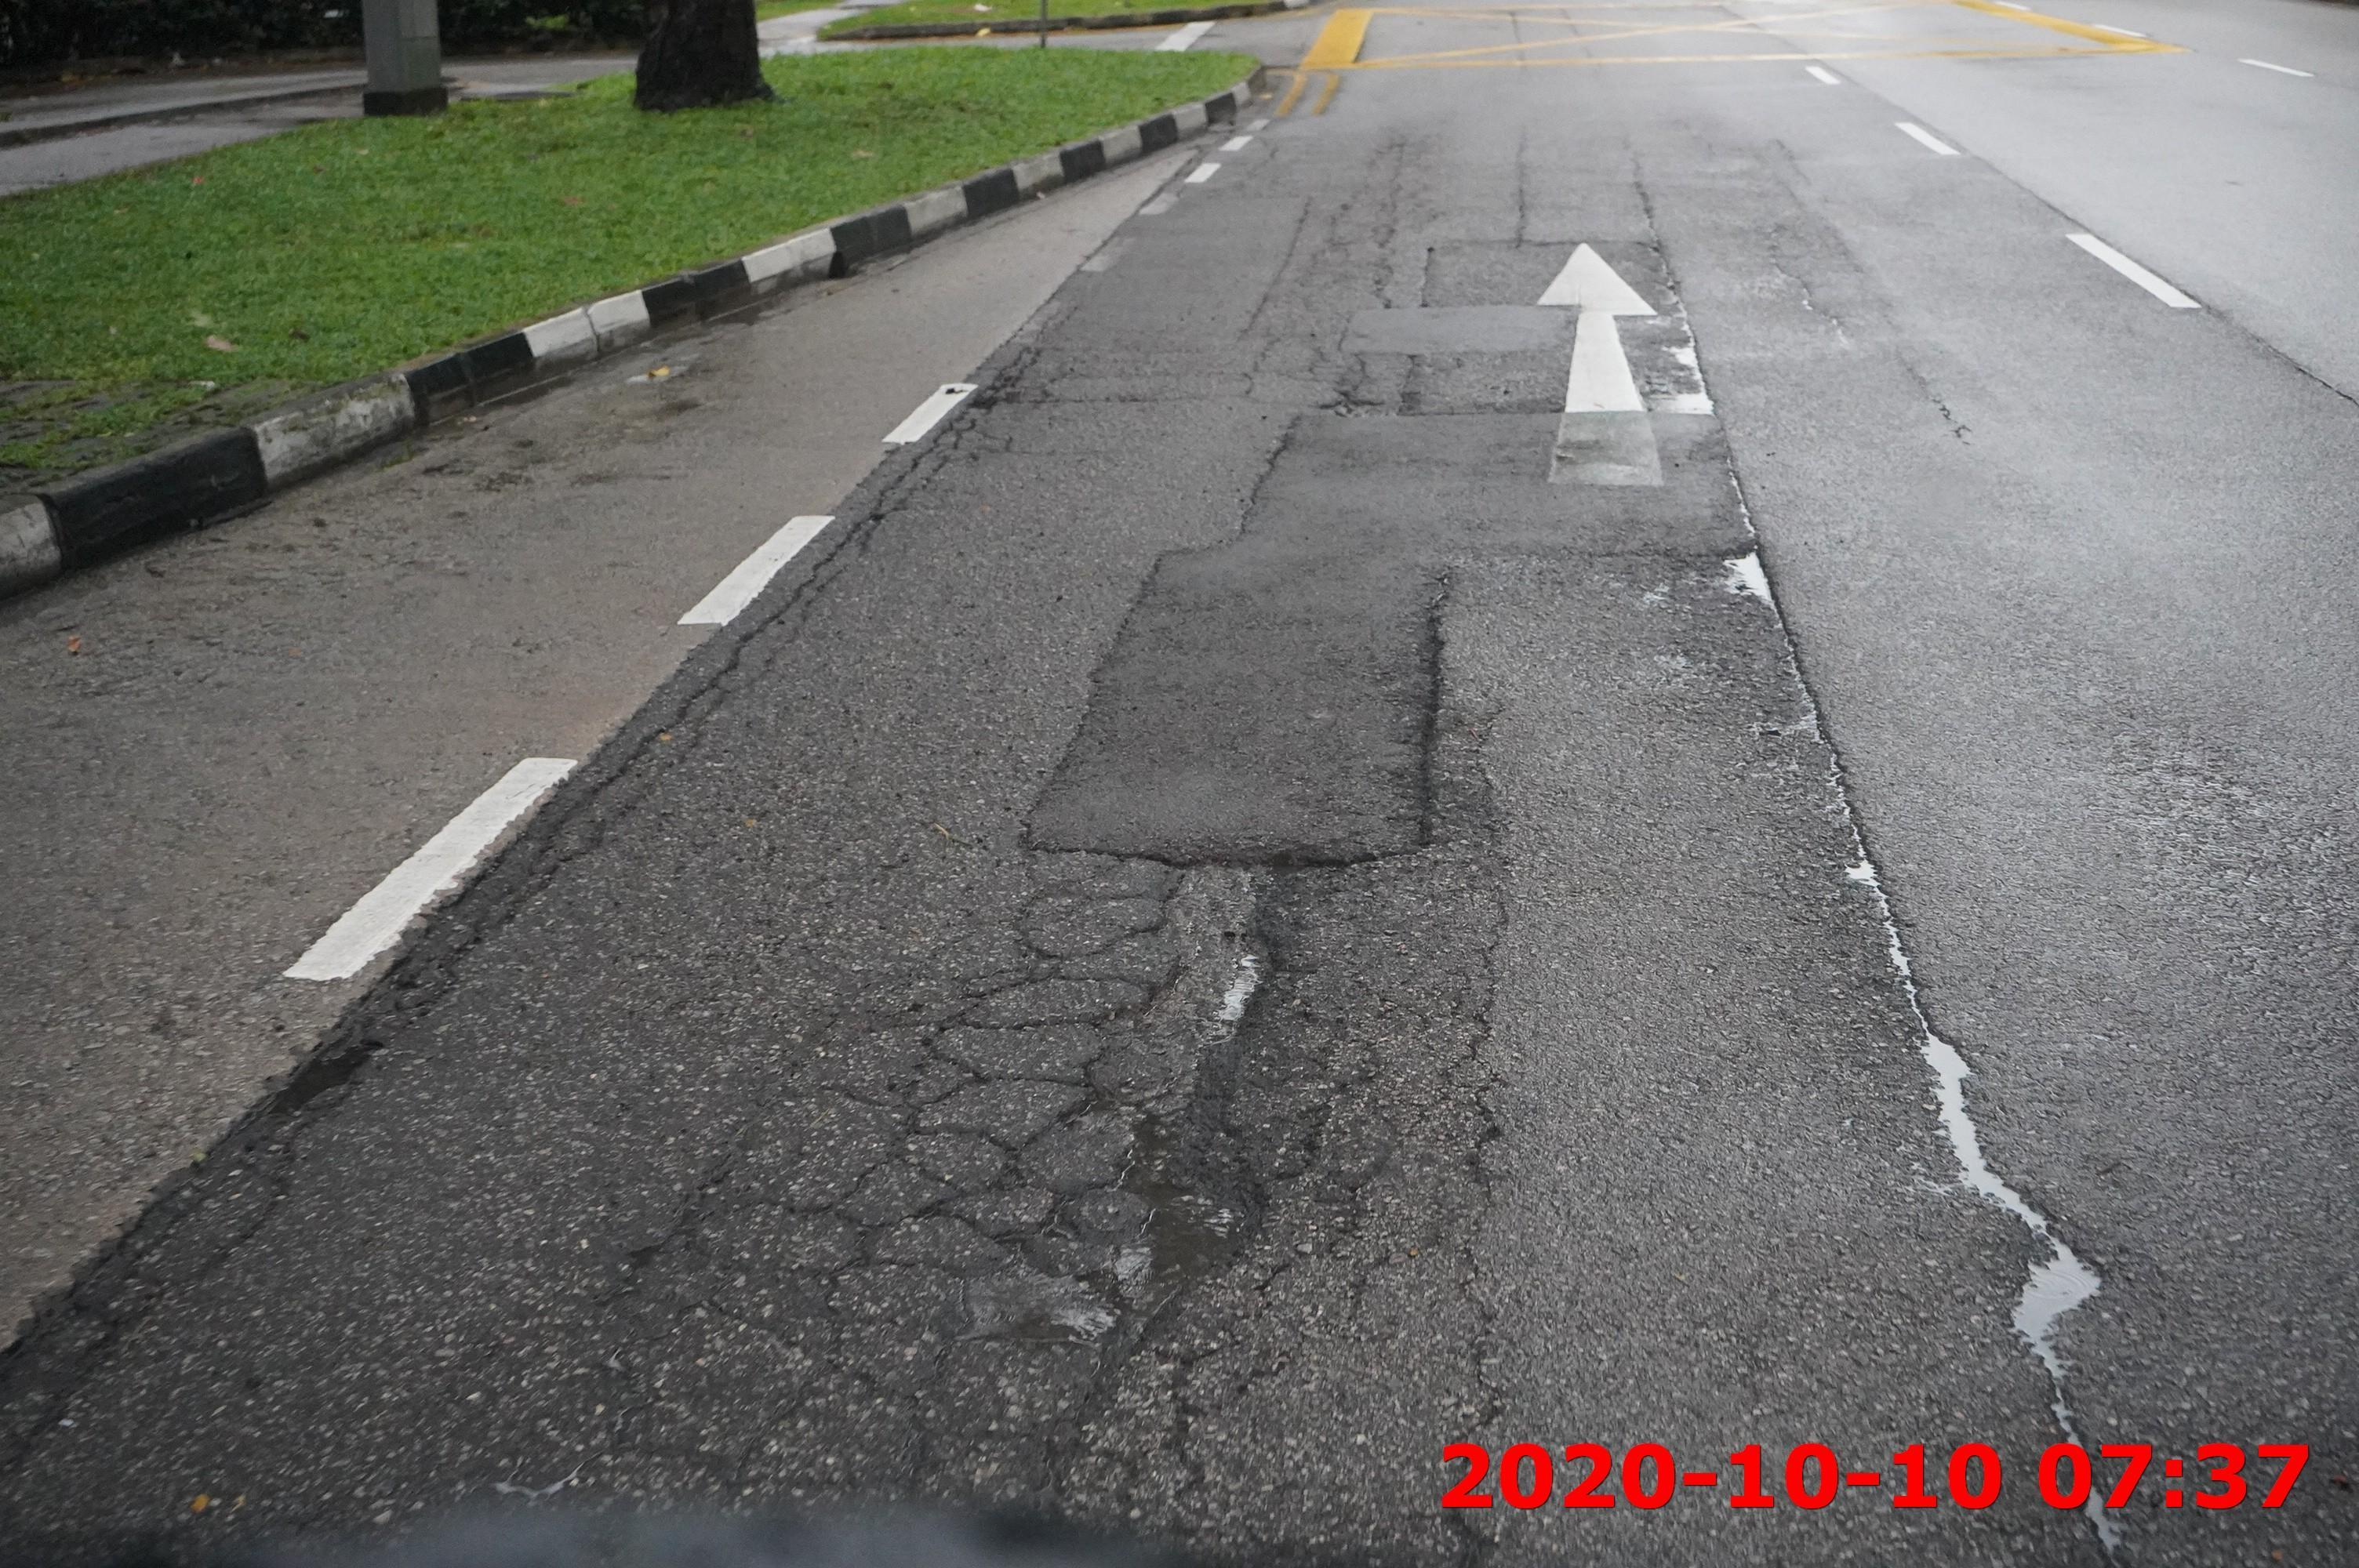alligator crack: (548, 842, 1515, 1507)
multi crack: (572, 331, 1046, 819)
